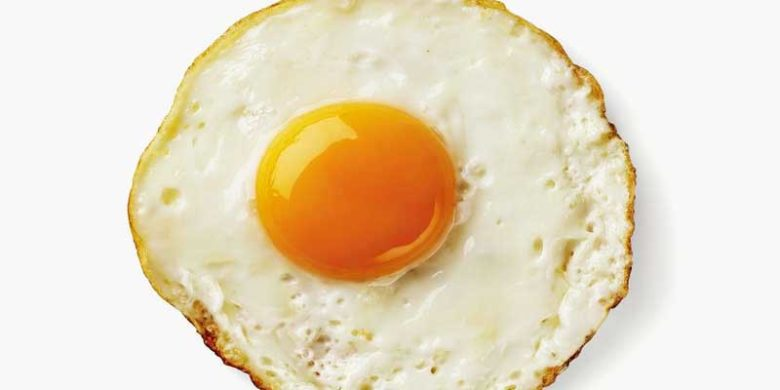fried egg: (160, 36, 546, 353)
